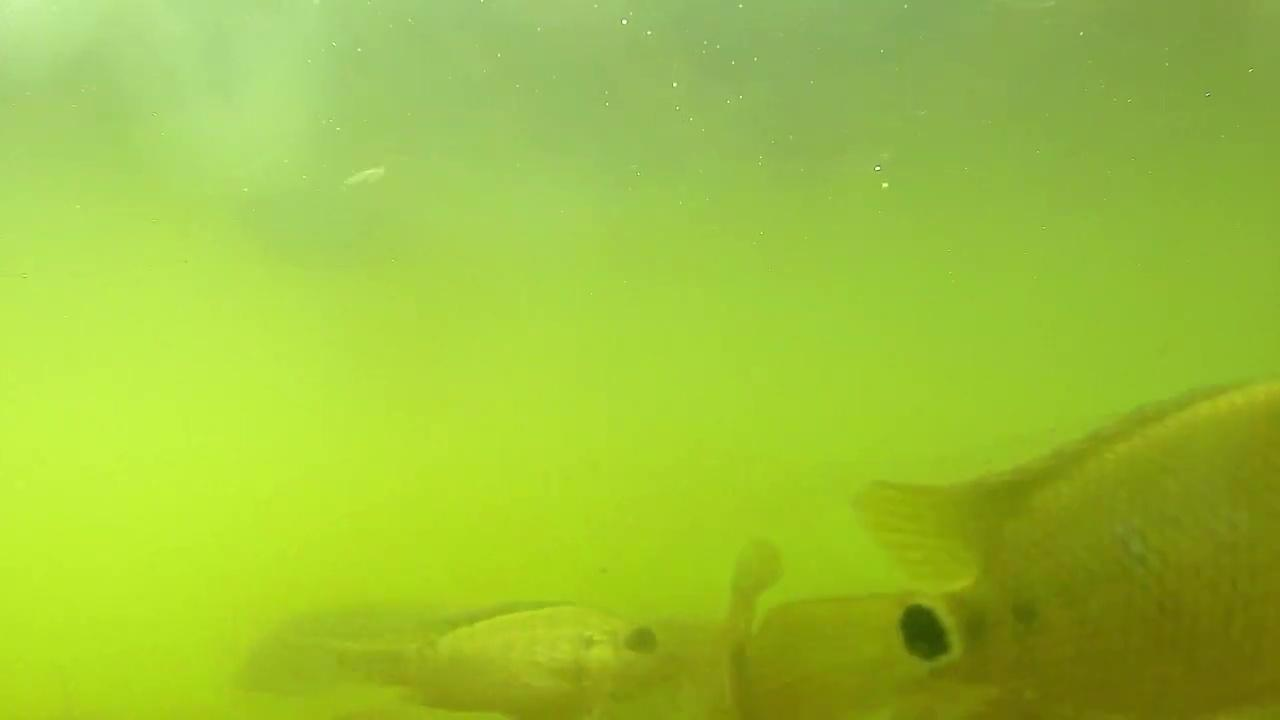Tilapia: (769, 360, 1280, 720), (343, 598, 690, 720)
